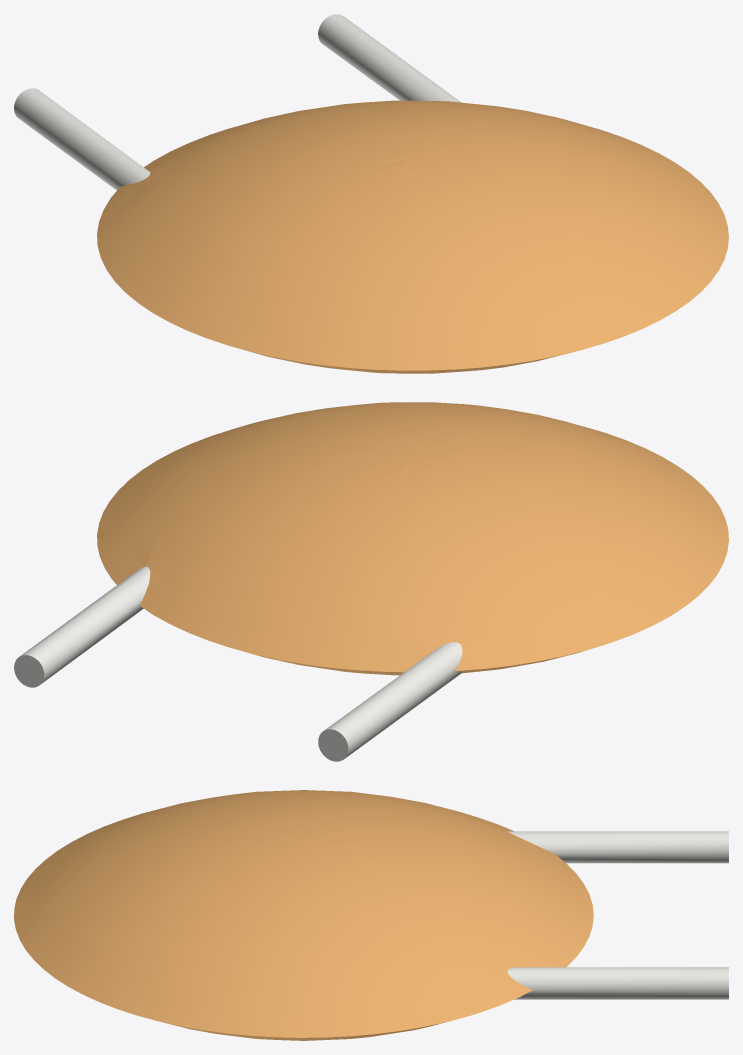
Rendered from C_Disc_D9.0mm_W2.5mm_P5.00mm.glb.
The picture shows the model from 3 angles, top to bottom: view 1: azimuth 30°, elevation 25°; view 2: azimuth 150°, elevation 25°; view 3: azimuth 270°, elevation 25°; orthographic projection. The views are drawn at different scales.
Visible parts, largest first — view 1: Shape_IndexedFaceSet.003, Shape_IndexedFaceSet.001, Shape_IndexedFaceSet.004, Shape_IndexedFaceSet.002; view 2: Shape_IndexedFaceSet.003, Shape_IndexedFaceSet.001, Shape_IndexedFaceSet.004, Shape_IndexedFaceSet, Shape_IndexedFaceSet.005, Shape_IndexedFaceSet.002; view 3: Shape_IndexedFaceSet.003, Shape_IndexedFaceSet.004, Shape_IndexedFaceSet.001, Shape_IndexedFaceSet.002.
Boxes of the visible parts, left/top/right/bottom form: Shape_IndexedFaceSet.003: left=97, top=100, right=728, bottom=370; Shape_IndexedFaceSet.001: left=14, top=88, right=150, bottom=190; Shape_IndexedFaceSet.004: left=318, top=14, right=461, bottom=102; Shape_IndexedFaceSet.002: left=251, top=352, right=566, bottom=373; Shape_IndexedFaceSet.003: left=97, top=402, right=728, bottom=672; Shape_IndexedFaceSet.001: left=325, top=642, right=462, bottom=758; Shape_IndexedFaceSet.004: left=20, top=566, right=150, bottom=683; Shape_IndexedFaceSet: left=318, top=729, right=348, bottom=761; Shape_IndexedFaceSet.005: left=14, top=655, right=44, bottom=687; Shape_IndexedFaceSet.002: left=248, top=650, right=586, bottom=675; Shape_IndexedFaceSet.003: left=14, top=790, right=593, bottom=1037; Shape_IndexedFaceSet.004: left=507, top=967, right=728, bottom=999; Shape_IndexedFaceSet.001: left=508, top=831, right=728, bottom=863; Shape_IndexedFaceSet.002: left=164, top=1021, right=448, bottom=1040.
Size of the model in its own units: 3.54 by 0.984 by 4.37.
